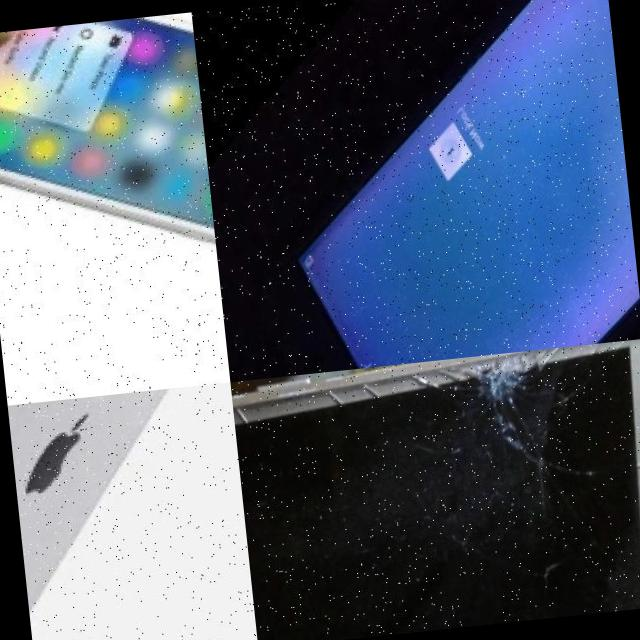screen crack: (230, 338, 640, 640)
